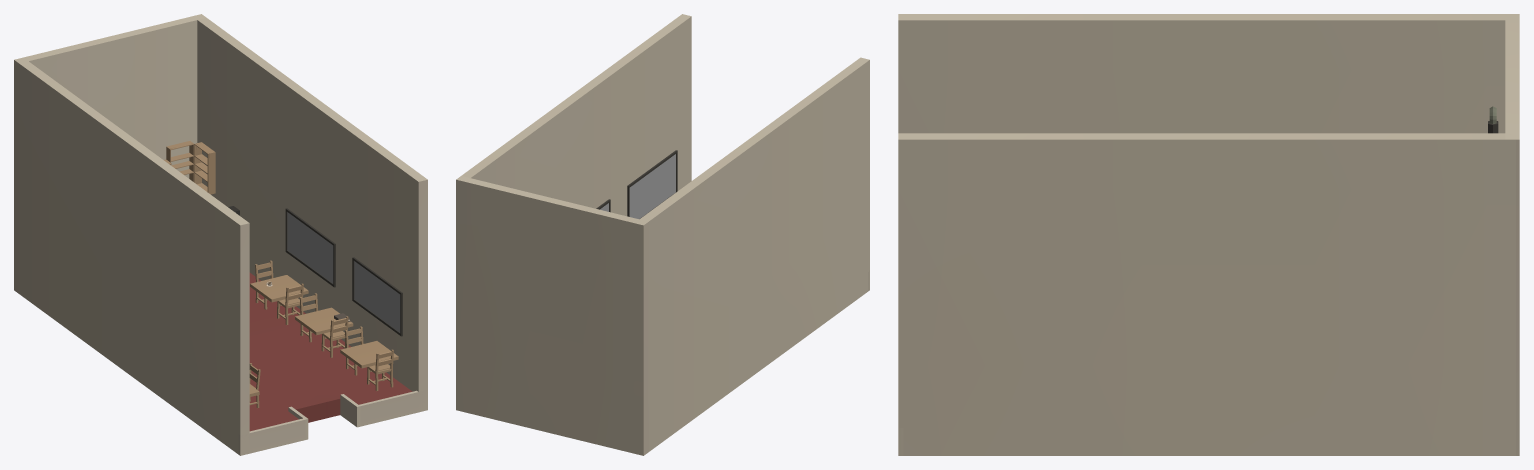
The model's file is bookshop_inside.fbx.
The picture shows the model from 3 angles, left to right: view 1: azimuth 30°, elevation 25°; view 2: azimuth 150°, elevation 25°; view 3: azimuth 270°, elevation 25°; orthographic projection. The views are drawn at different scales.
Parts seen in each view (by area): view 1: polySurface2099, polySurface2092, polySurface2091, polySurface2094, polySurface2227, polySurface2114, pCube287, polySurface2097, polySurface2098, pCube319, pCube293, pCube297 (+4 smaller); view 2: polySurface2099, polySurface2091, polySurface2092, polySurface2227; view 3: polySurface2092, polySurface2099, polySurface2091.
Part boxes in pixels (box(x1,y1,x2,y2)): polySurface2099: box(15, 58, 249, 455); polySurface2092: box(197, 15, 427, 411); polySurface2091: box(14, 14, 206, 293); polySurface2094: box(249, 272, 412, 431); polySurface2227: box(352, 257, 402, 336); polySurface2114: box(285, 208, 335, 287); pCube287: box(166, 141, 215, 194); polySurface2097: box(359, 390, 427, 426); polySurface2098: box(238, 418, 305, 455); pCube319: box(340, 341, 398, 368); pCube293: box(250, 275, 308, 302); pCube297: box(295, 307, 353, 335); polySurface2099: box(636, 57, 869, 451); polySurface2091: box(456, 176, 648, 455); polySurface2092: box(459, 14, 691, 216); polySurface2227: box(627, 150, 677, 219); polySurface2092: box(898, 133, 1515, 455); polySurface2099: box(898, 14, 1515, 133); polySurface2091: box(1505, 14, 1519, 455).
Bounding box in the file's own units: 34.76 × 40.81 × 72.62.
Materials: 7 (4 with a texture image).
